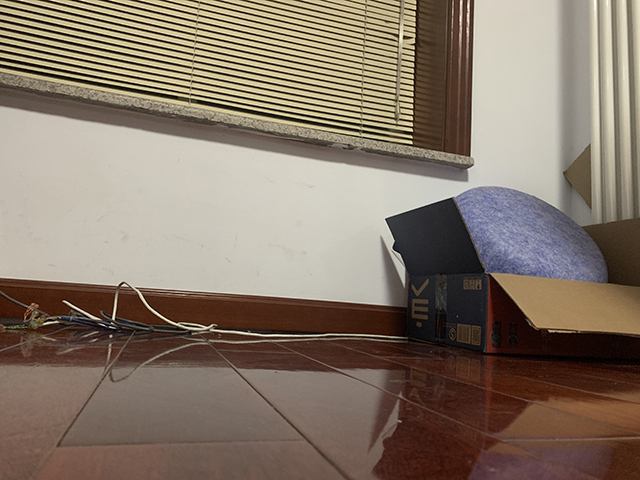wire: (1, 280, 409, 343)
